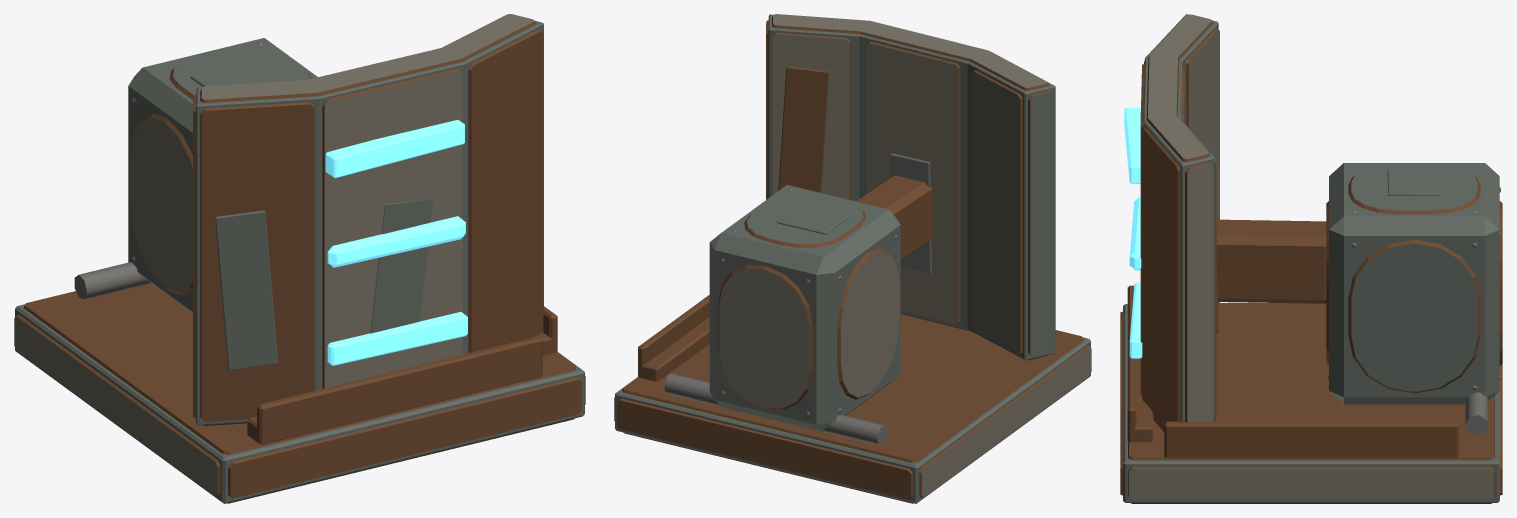
Rendered from R4X_DirectionalShield.fbx.
The picture shows the model from 3 angles, left to right: view 1: azimuth 30°, elevation 25°; view 2: azimuth 150°, elevation 25°; view 3: azimuth 270°, elevation 25°; orthographic projection. The views are drawn at different scales.
Visible parts, largest first — view 1: R4X_DirectionalShield_Body; view 2: R4X_DirectionalShield_Body; view 3: R4X_DirectionalShield_Body.
Part boxes in pixels (bbox=[...]): R4X_DirectionalShield_Body: bbox=[14, 14, 585, 503]; R4X_DirectionalShield_Body: bbox=[614, 14, 1091, 503]; R4X_DirectionalShield_Body: bbox=[1120, 14, 1502, 503].
Size of the model in its own units: 0.52 by 0.51 by 0.52.
